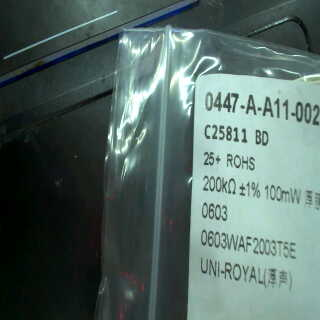200kR: (201, 174, 237, 195)
